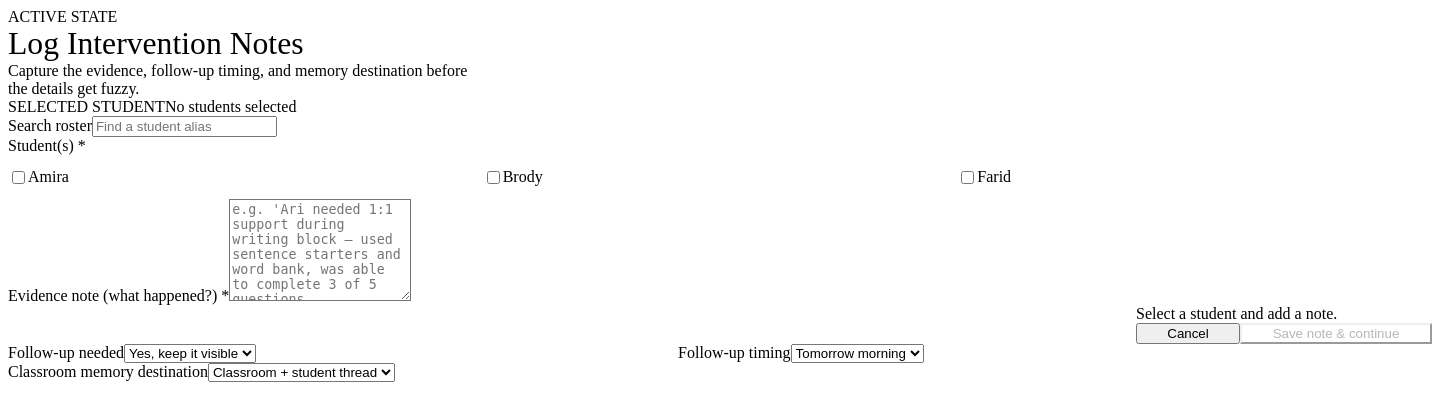
InterventionLogger › explains why the Ops save action is disabled until student and note are present
Expected: the button "Save note & continue" is disabled, x1=1240 y1=323 x2=1432 y2=344
Expected: the text "Select a student and add a note." is shown, x1=1136 y1=305 x2=1337 y2=322
Click the checkbox labelled "Brody": x=493, y=177 x1=487 y1=170 x2=500 y2=184
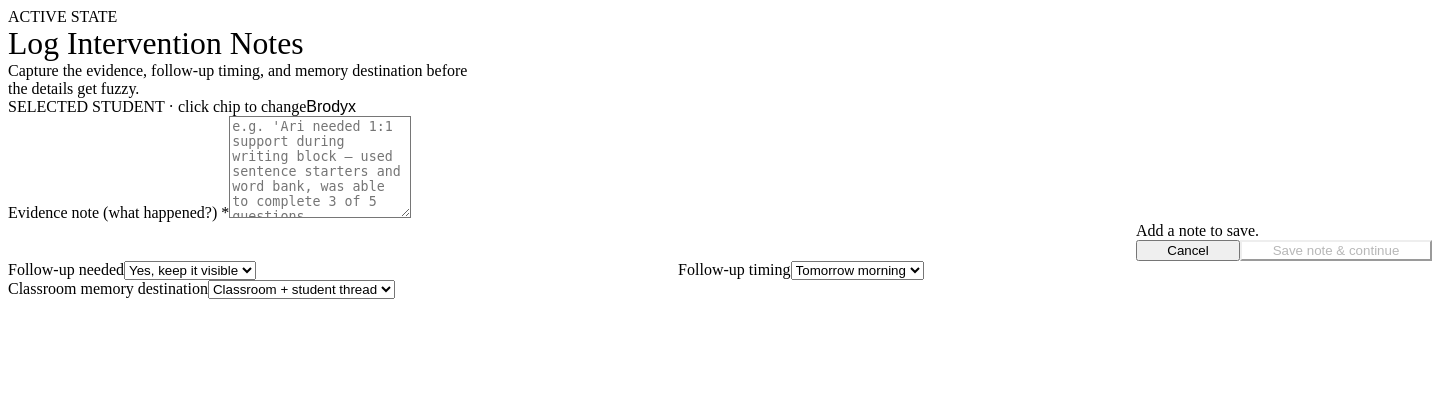
Expected: the button "Save note & continue" is disabled, x1=1240 y1=240 x2=1432 y2=261
Expected: the text "Add a note to save." is shown, x1=1136 y1=222 x2=1259 y2=239
In the text box labelled "Evidence note (what happened?) *": x=320, y=167 x1=229 y1=116 x2=411 y2=218, type "Used calm corner before joining group; settled in 6 minutes."
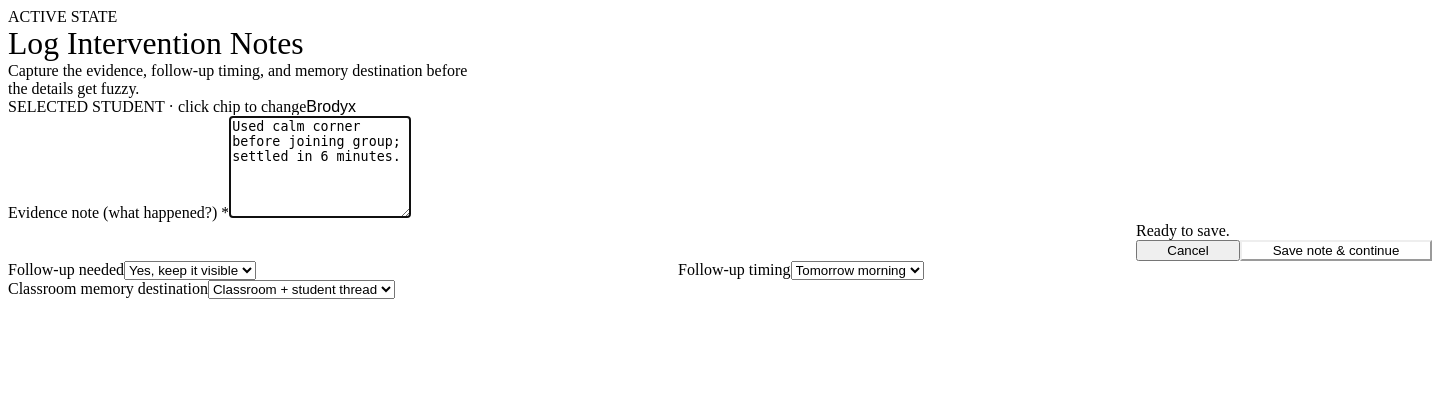
Expected: the text "Ready to save." is shown, x1=1136 y1=222 x2=1230 y2=239
Expected: the button "Save note & continue" is enabled, x1=1240 y1=240 x2=1432 y2=261
